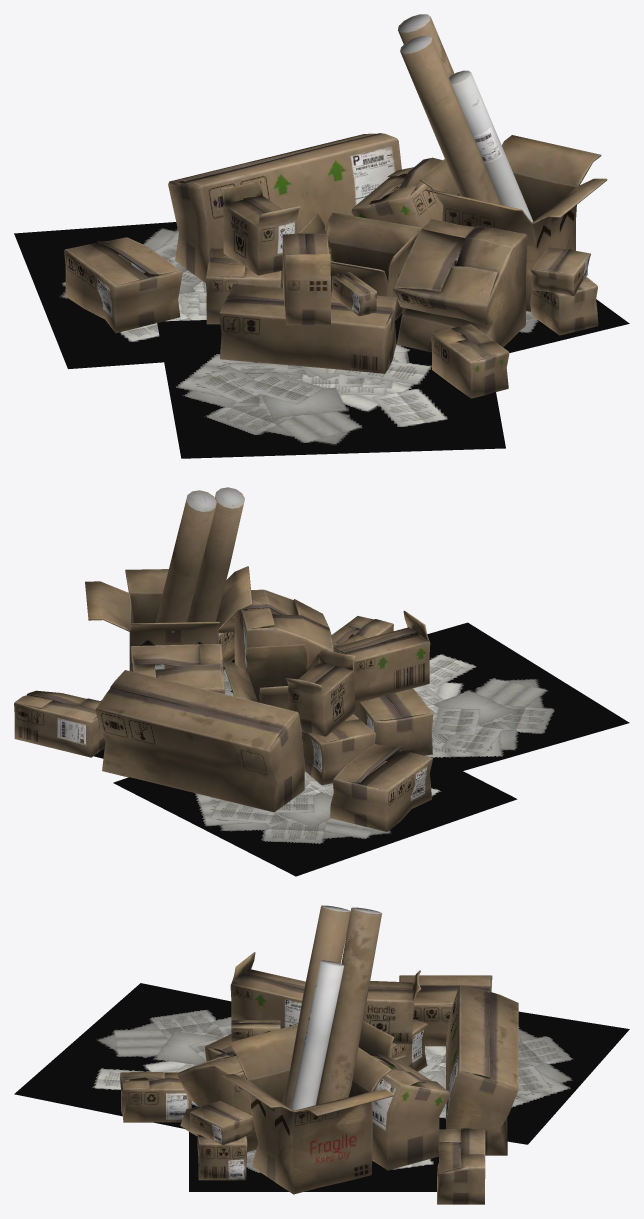
The model's file is paper_box.glb.
The picture shows the model from 3 angles, top to bottom: view 1: azimuth 30°, elevation 25°; view 2: azimuth 150°, elevation 25°; view 3: azimuth 270°, elevation 25°; orthographic projection. The views are drawn at different scales.
Visible parts, largest first — view 1: Paper_Box; view 2: Paper_Box; view 3: Paper_Box.
Boxes of the visible parts, box(x1,y1,x2,y2) form: Paper_Box: box(14, 14, 629, 458); Paper_Box: box(14, 487, 629, 876); Paper_Box: box(14, 905, 629, 1204).
Size of the model in its own units: 2.78 by 1.35 by 3.18.
2 materials, 2 textured.
